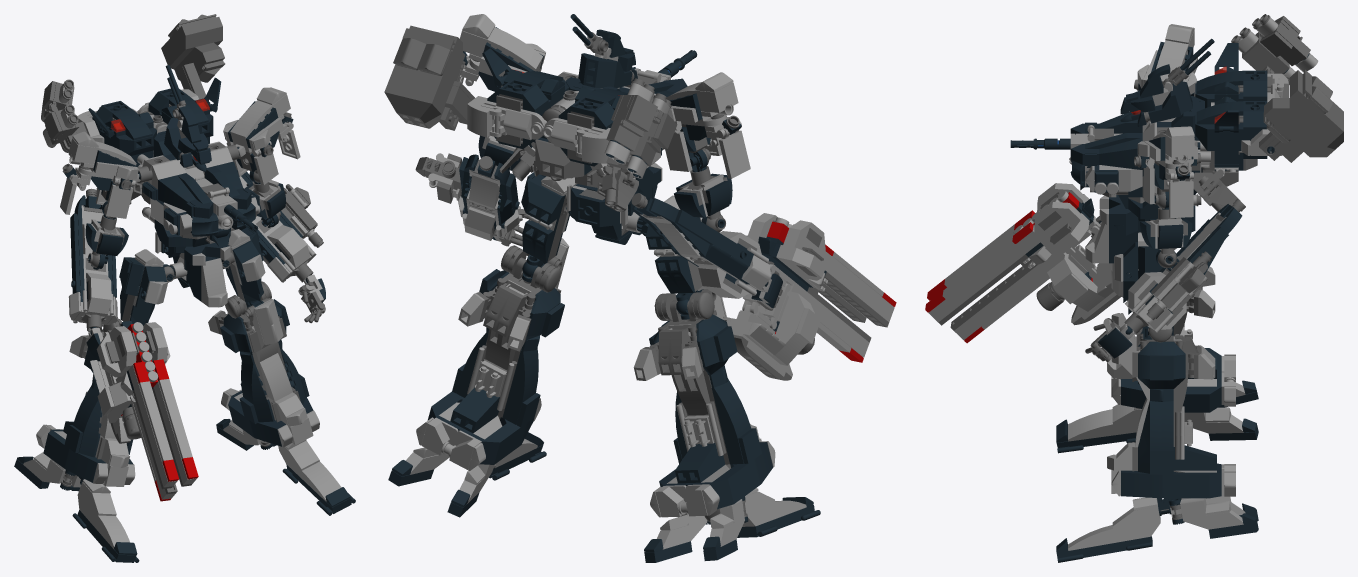
Rendered from cr-c90u3-cascade-range.dae.
The picture shows the model from 3 angles, left to right: view 1: azimuth 30°, elevation 25°; view 2: azimuth 150°, elevation 25°; view 3: azimuth 270°, elevation 25°; orthographic projection. The views are drawn at different scales.
Size of the model in its own units: 565 by 698 by 862.
